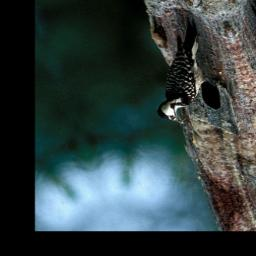Woodpecker: (125, 14, 229, 131)
